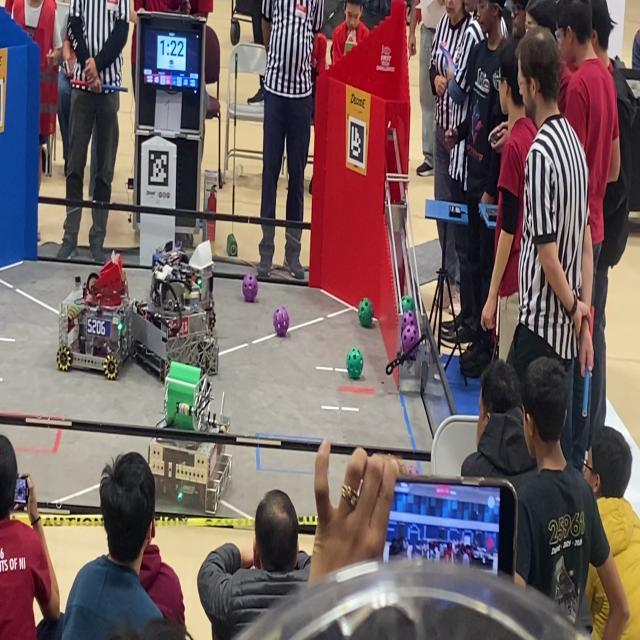artifact_green: (347, 348, 363, 379), (358, 298, 373, 327), (227, 233, 237, 257), (402, 296, 415, 312)
artifact_purple: (402, 325, 419, 355), (274, 306, 289, 337), (243, 274, 257, 302), (402, 311, 417, 330)
